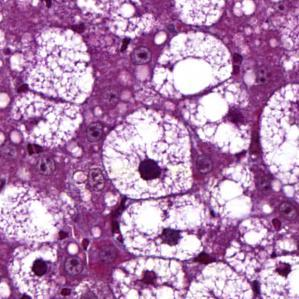ballooning: (100, 106, 197, 204), (149, 27, 236, 101), (116, 193, 209, 261)
